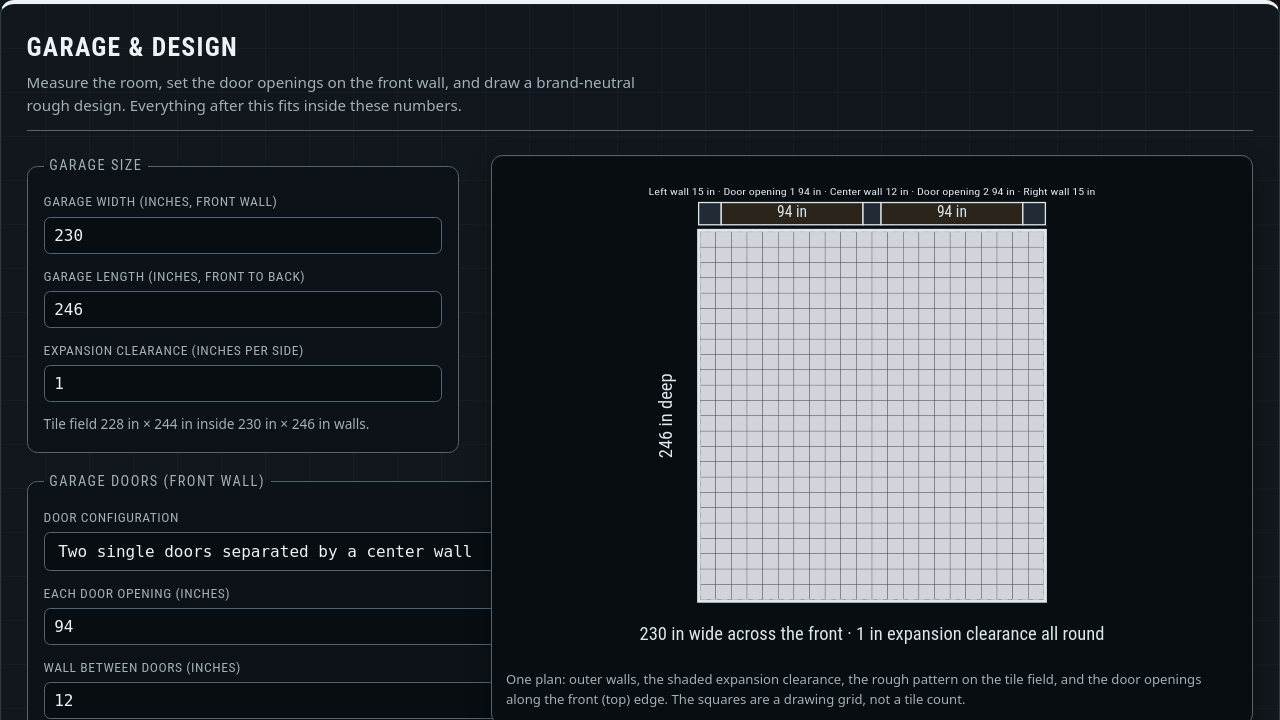
GuidedPlanner garage defaults › rejects a door that cannot fit the wall instead of drawing a broken front
The width and height of the screenshot is (1280, 720).
Step 1. Replace the text in the field labelled "Each door opening (inches)" with "120" → (276, 626), box [44,608,509,645]
(page scrolled)
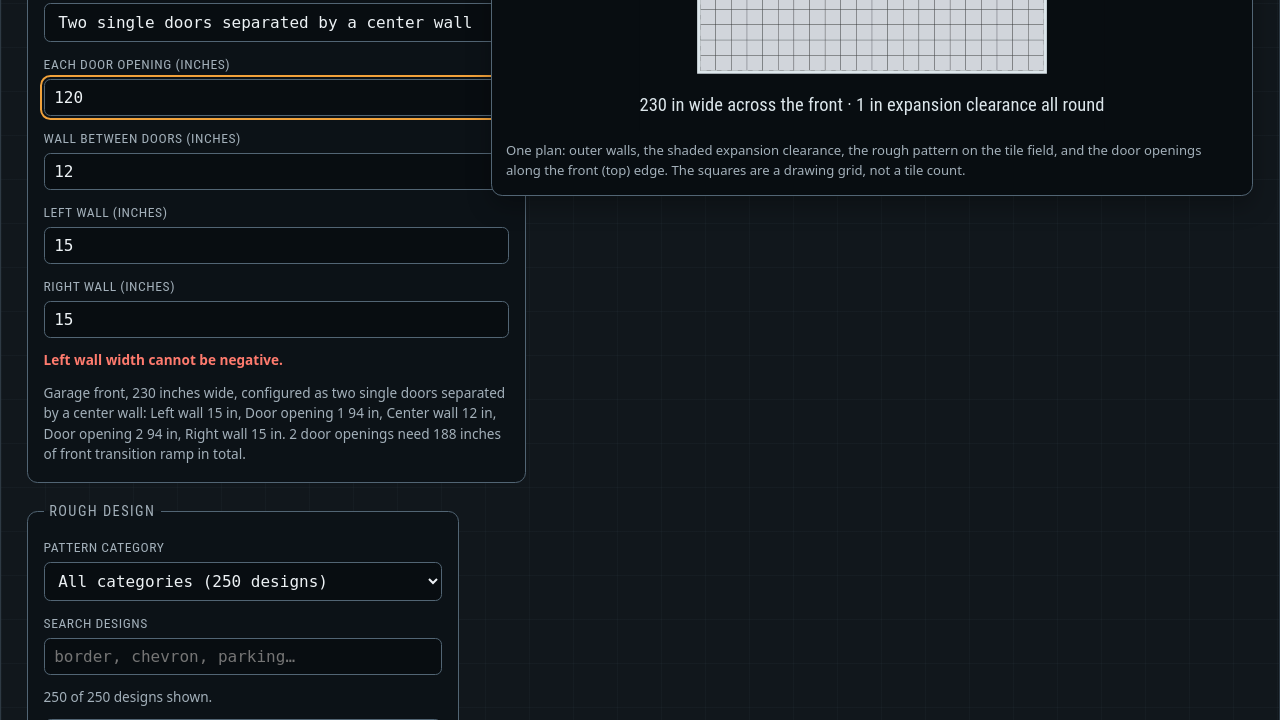
Expected: the message shows "cannot be negative", [44,350,283,370]
